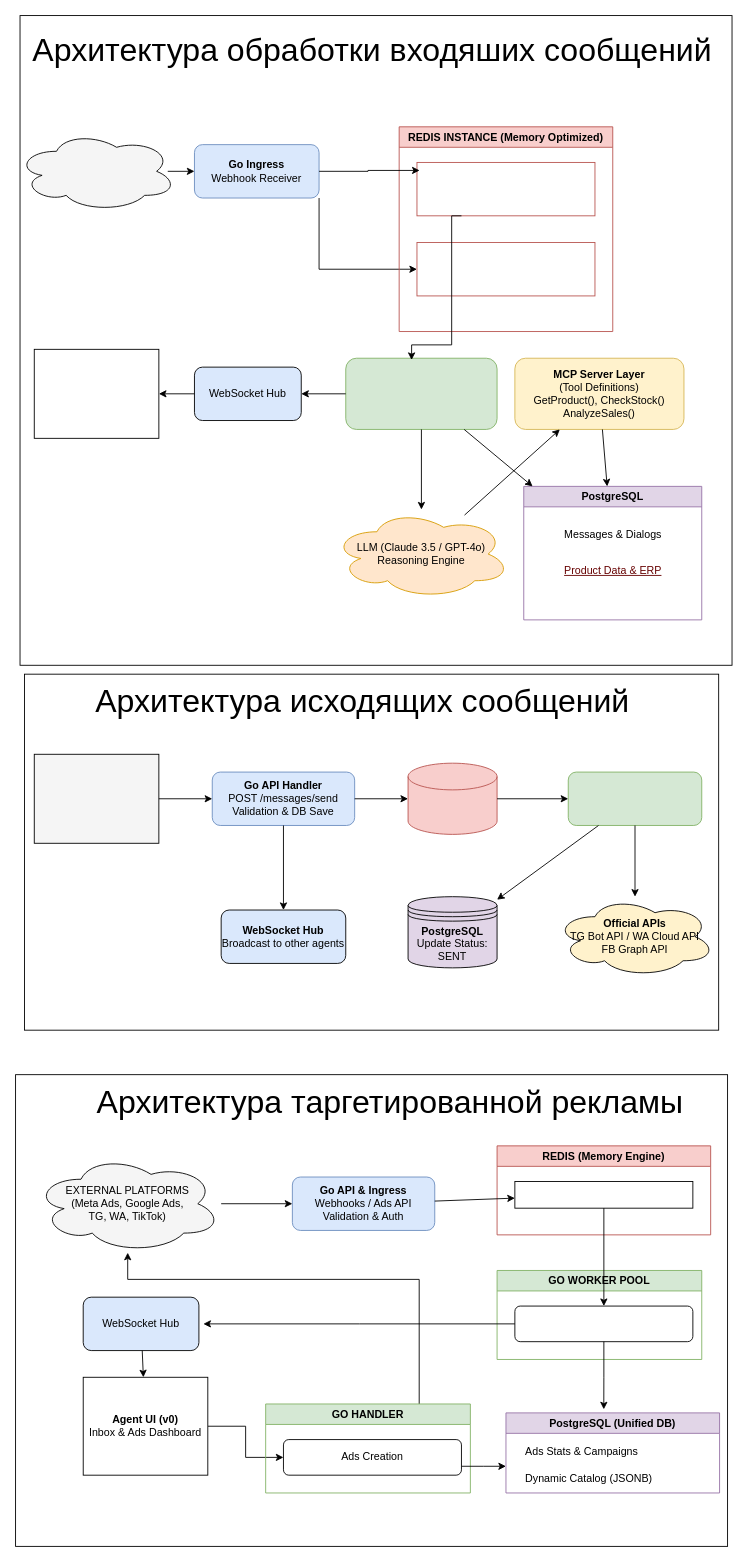
Some shapes in this 748 by 1562 pixel diagram are drawn without their labels. The centre of each missing label's shape, as x and y in pixels:
"Ads Sync" belongs at pixel 603 1323.
"Agent UI (v0) (Drafts, Smart Sorting)" belongs at pixel 96 393.
"Agent UI (v0) Input Field + AI Draft" belongs at pixel 96 798.
"AI Orchestrator Worker Pool (Go) Consumer Groups XREADGROUP + ACK" belongs at pixel 421 393.
"Cache (Shared) Agent Sessions Rate Limits (TTL)" belongs at pixel 505 269.
"Messenger Platforms (TG, WA, Meta Ads)" belongs at pixel 96 170.
"Outbound Worker Rate Limiter Platform Adapter" belongs at pixel 634 798.
"Redis Stream (Outbound Queue) Retry Policy" belongs at pixel 452 798.
"Stream: ADS_TASKS" belongs at pixel 603 1194.
"Streams (Queue) XADD + MAXLEN Persistence: AOF" belongs at pixel 505 189.
